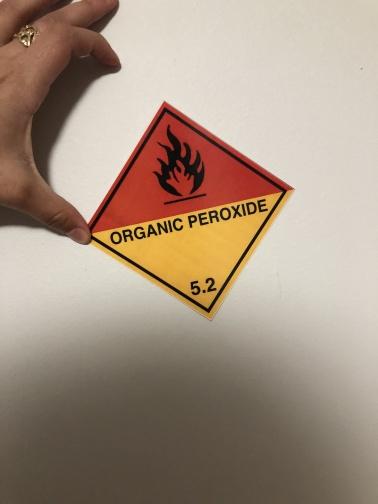OrganicPeroxide: (86, 102, 294, 320)
